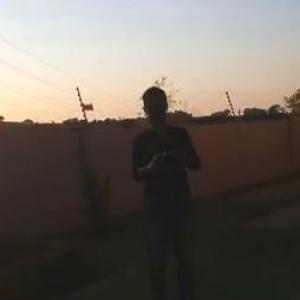follow: (127, 79, 211, 299)
